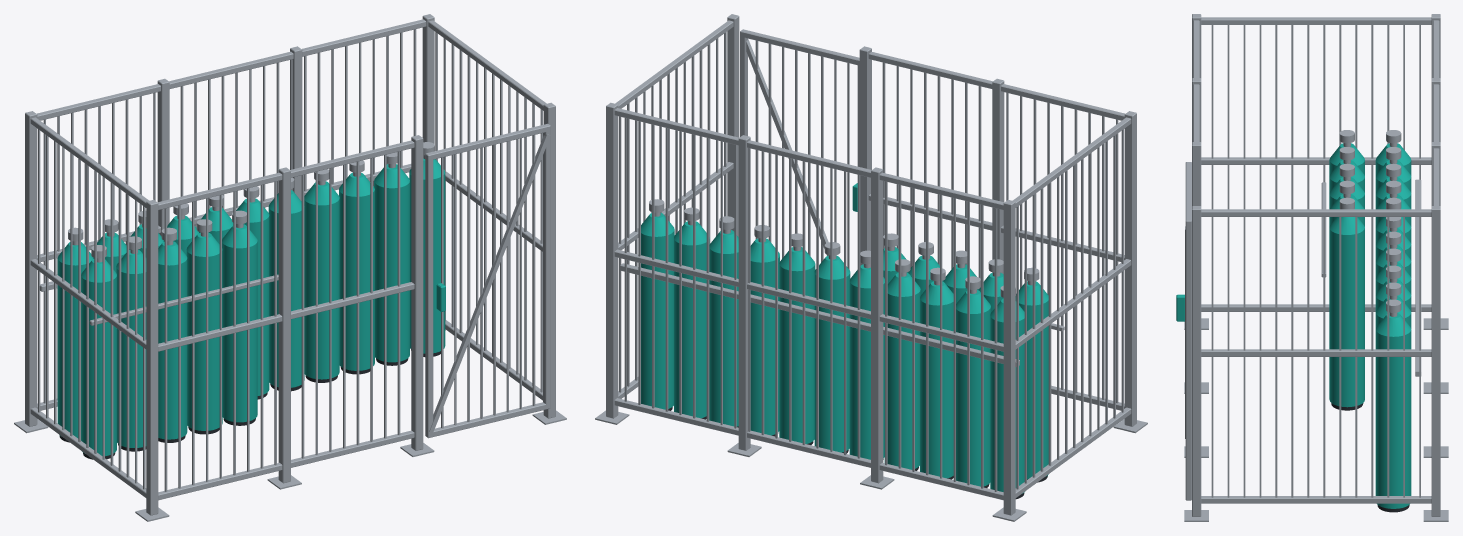
Rendered from cylinder-cage.glb.
3 views of the same model, side by side, from view 1: azimuth 30°, elevation 25°; view 2: azimuth 150°, elevation 25°; view 3: azimuth 270°, elevation 25° (orthographic).
Parts seen in each view (by area): view 1: cylinder-cage; view 2: cylinder-cage; view 3: cylinder-cage.
Part boxes in pixels (box(x1,y1,x2,y2)): cylinder-cage: box(14, 14, 566, 521); cylinder-cage: box(595, 14, 1147, 521); cylinder-cage: box(1176, 14, 1448, 521).
Size of the model in its own units: 3.1 by 2.21 by 1.76.
